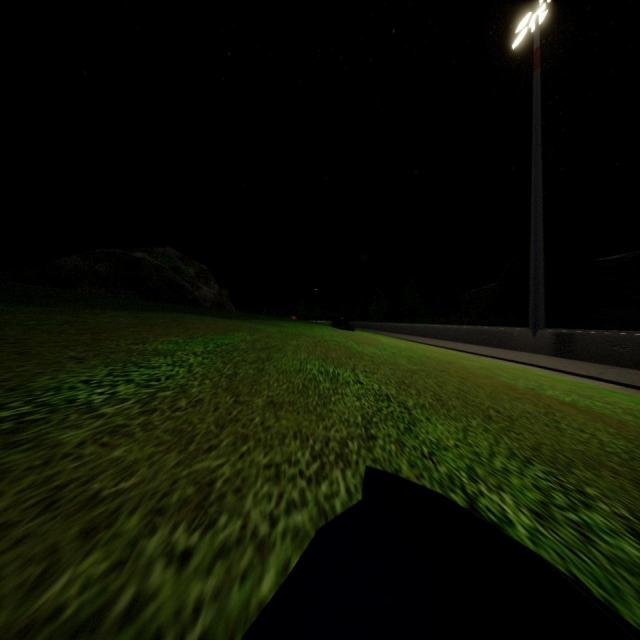Vehicle: (237, 462, 640, 640), (331, 316, 356, 332), (288, 316, 297, 321)
